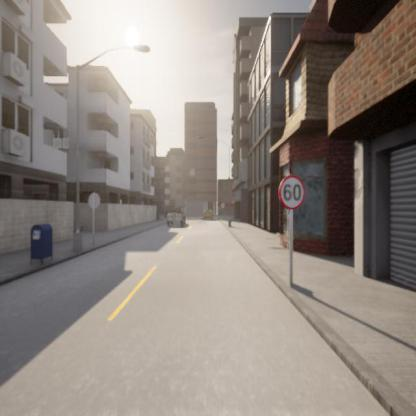traffic_sign_60: (278, 173, 305, 210)
vehicle: (165, 211, 187, 228)
